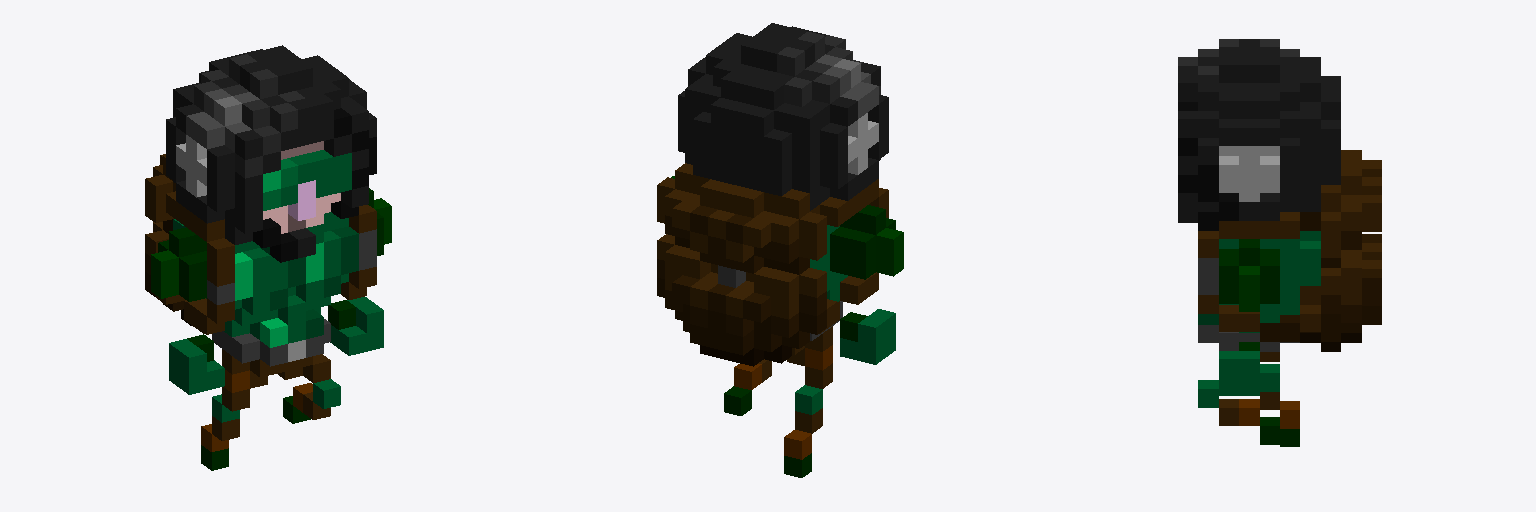
3 renders of one model, left to right at view 1: azimuth 30°, elevation 25°; view 2: azimuth 150°, elevation 25°; view 3: azimuth 270°, elevation 25°, orthographic.
Size of the model in its own units: 13 by 22 by 10.
1 materials, 1 textured.